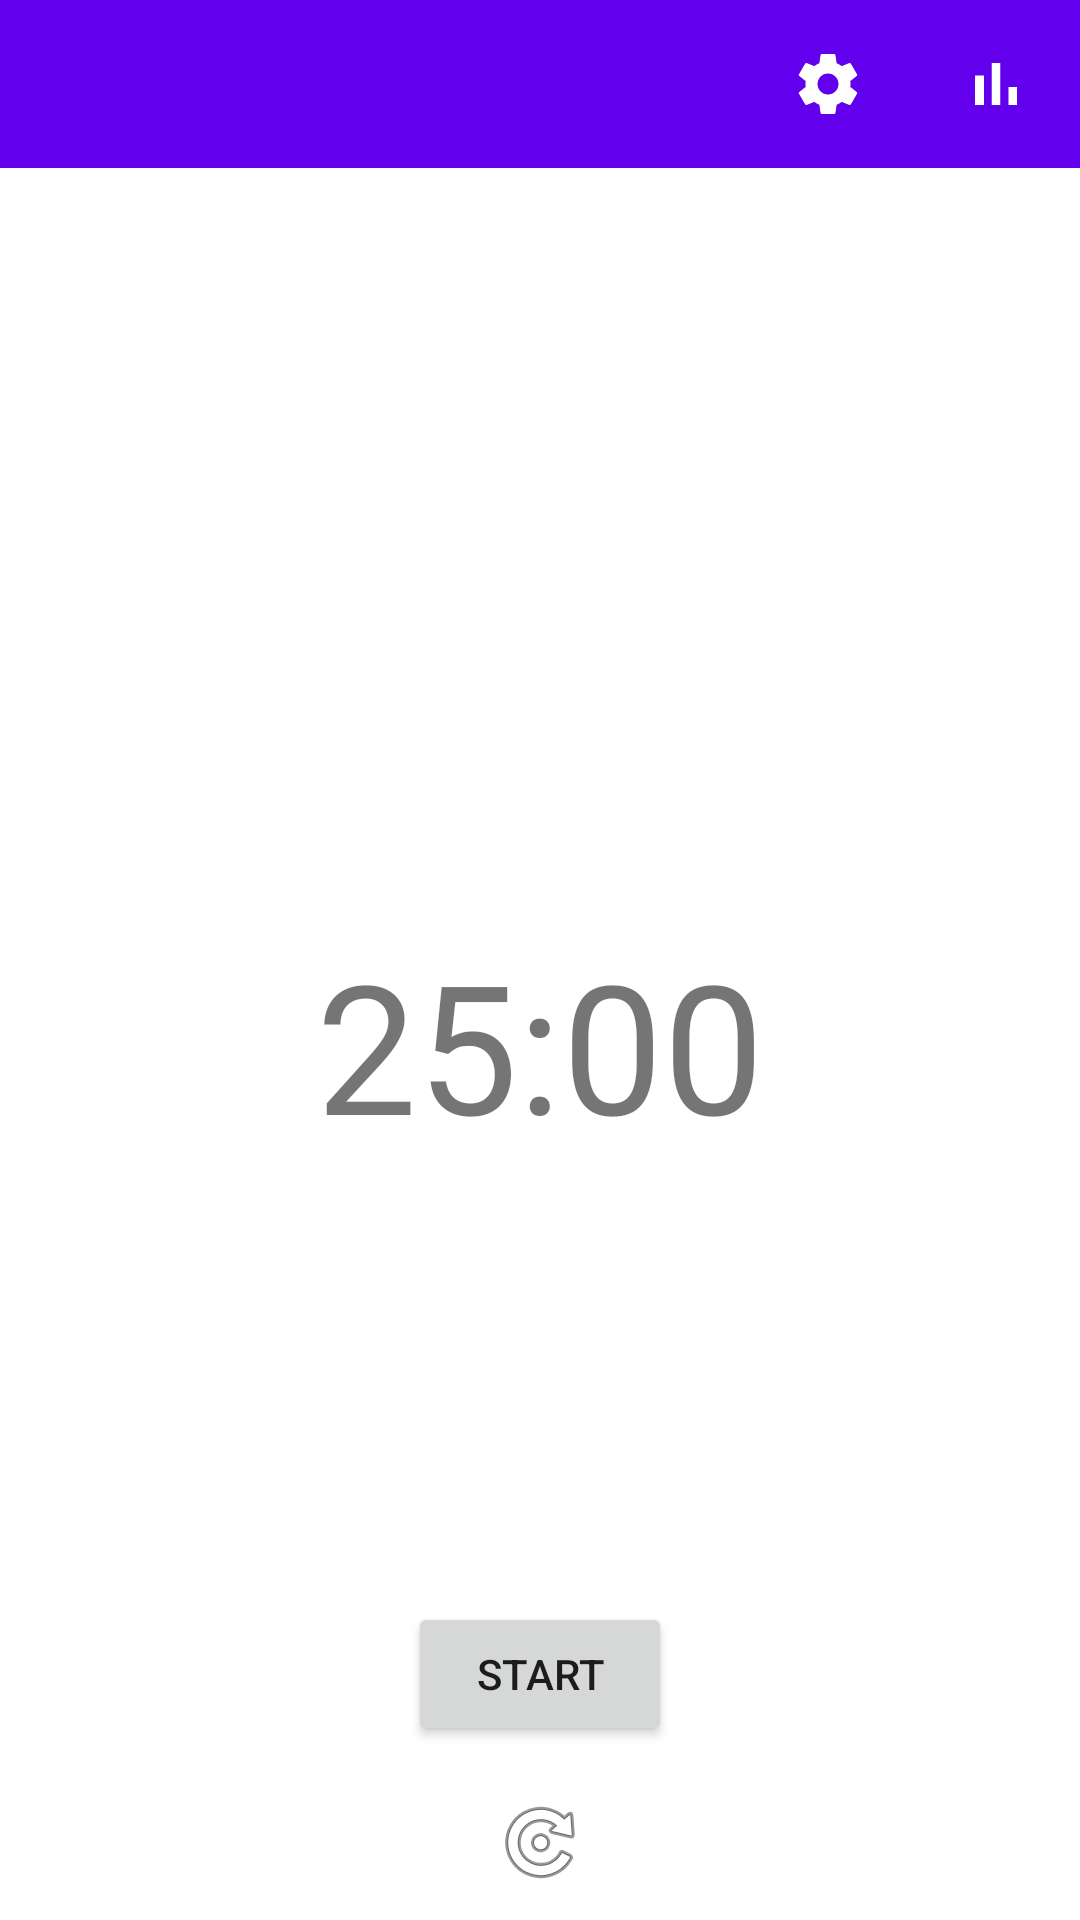

Locate icon controls on the screen. Image size 1080w x 1920h, boxes as {"x1": x1, "y1": y1, "x2": x2, "y2": y2}.
rotate: {"x1": 505, "y1": 1807, "x2": 575, "y2": 1878}
settings: {"x1": 798, "y1": 54, "x2": 857, "y2": 114}
stats: {"x1": 975, "y1": 63, "x2": 1017, "y2": 105}
